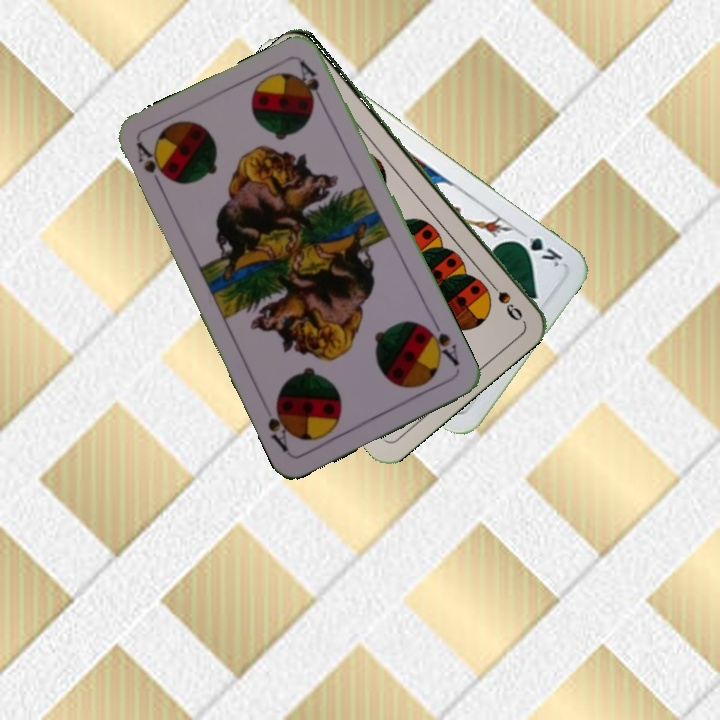GK: (510, 226, 565, 270)
S9: (482, 274, 526, 324)
SA: (420, 317, 462, 369), (132, 138, 171, 194)
